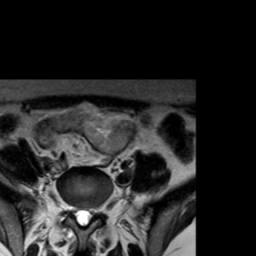CCS_normal: (80, 197, 86, 234)
LFS_normal: (93, 195, 101, 220)
LLS_normal: (86, 198, 93, 228)
RFS_stenosis: (66, 194, 73, 219)
RLS_normal: (73, 196, 80, 227)
